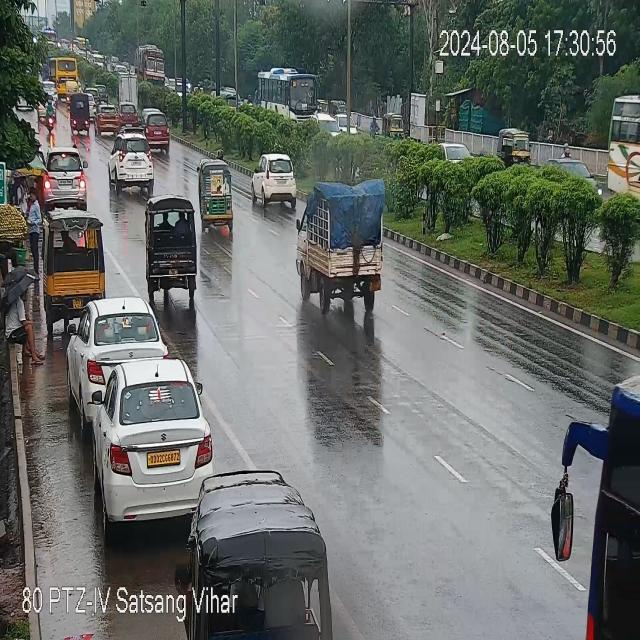auto: (42, 211, 105, 337), (141, 192, 197, 310), (196, 161, 233, 237), (497, 126, 533, 164), (68, 95, 88, 134), (382, 113, 403, 138), (64, 80, 79, 100)
bus: (609, 83, 640, 203)
car: (98, 356, 224, 522), (66, 294, 166, 426), (254, 65, 319, 120), (250, 148, 295, 211), (110, 135, 153, 200), (42, 149, 87, 211), (143, 110, 171, 150), (95, 100, 118, 138), (118, 104, 137, 126), (83, 87, 100, 107)
truck: (298, 181, 386, 311), (133, 37, 163, 89)
